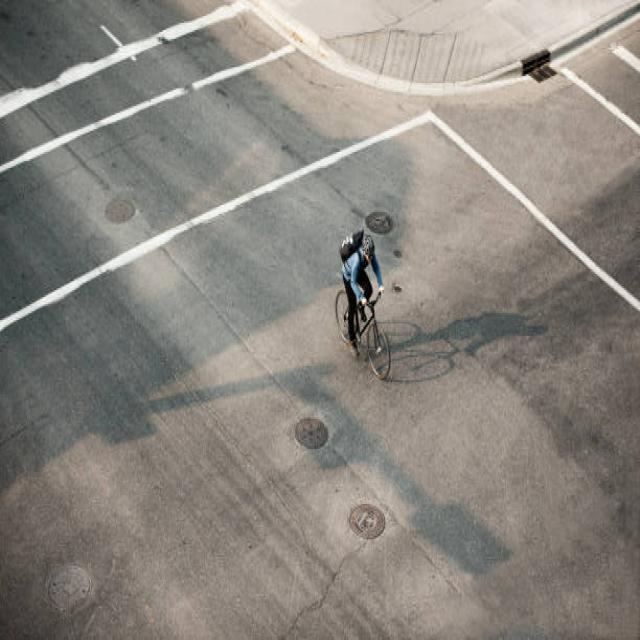bicycle: (336, 228, 390, 379)
